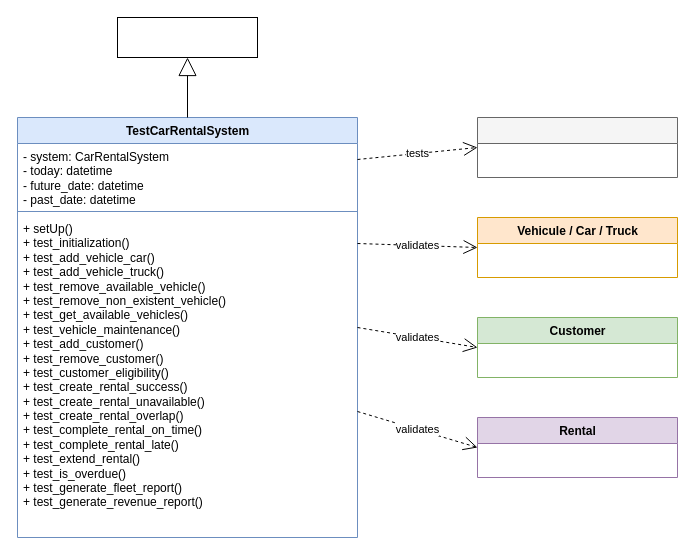
Image size: 695x555. Some labels were removed from this diagram. Here are the shapes that lost their labels. From the top down, the centre of each, then its label:
[187,37]: unittest.TestCase
[577,147]: CarRentalSystem
